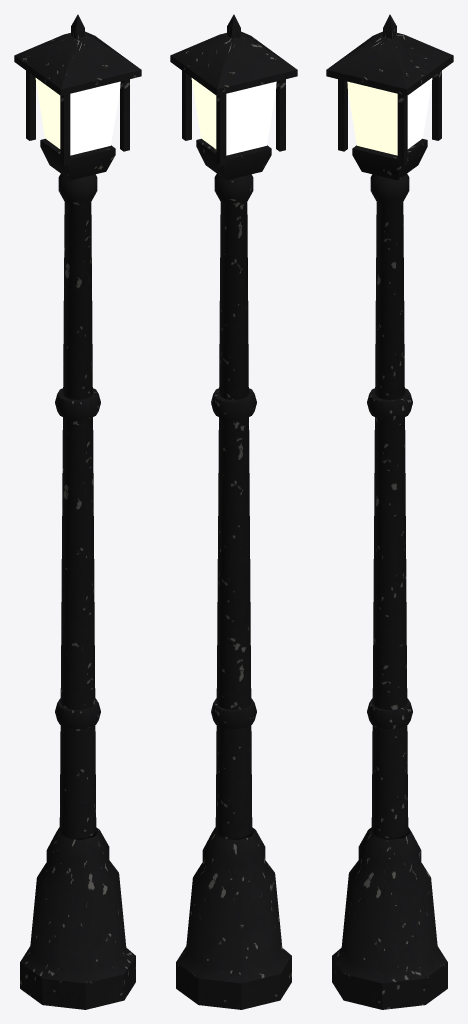
File: lamp_post.glb
3 views of the same model, side by side, from view 1: azimuth 30°, elevation 25°; view 2: azimuth 210°, elevation 25°; view 3: azimuth 330°, elevation 25° (orthographic).
Visible parts, largest first — view 1: lamp_post; view 2: lamp_post; view 3: lamp_post.
Part boxes in pixels (<box>): lamp_post: <box>14,14,141,1009</box>; lamp_post: <box>170,14,297,1009</box>; lamp_post: <box>326,14,453,1009</box>.
Size of the model in its own units: 0.4435 by 4.4 by 0.4435.
2 materials, 1 textured.
